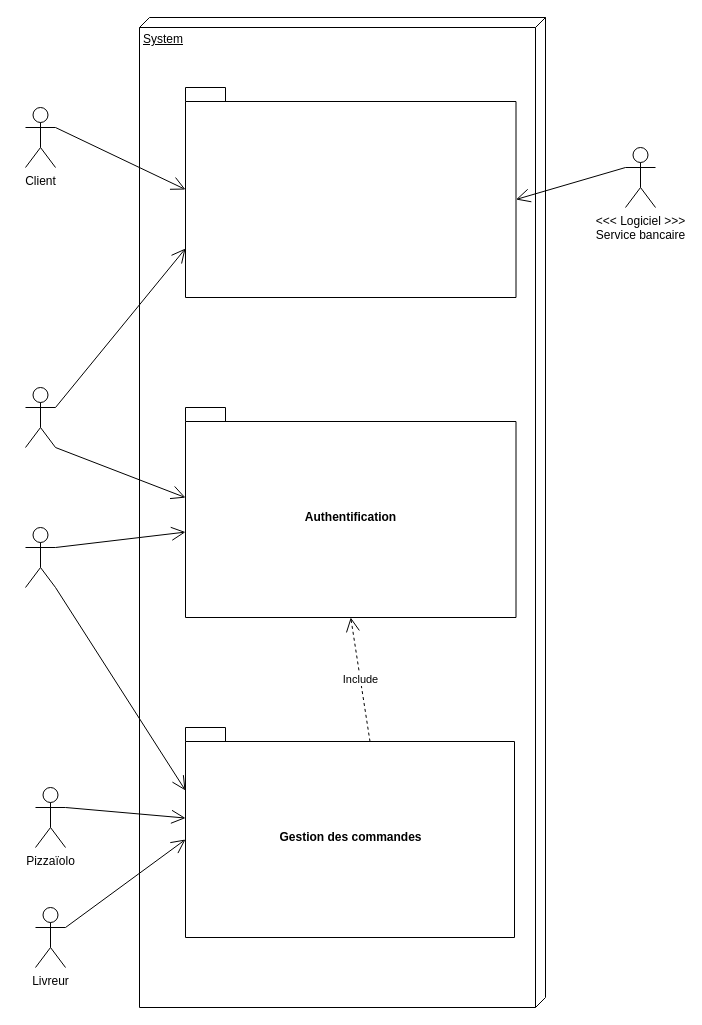
This 702x1025 diagram has some shape labels left out. Here are the shapes that lost their labels. From the top down, the box of each, then its label:
(184, 86, 516, 298): Prise de commande
(24, 386, 56, 448): Visiteur
(24, 526, 56, 588): Manager
